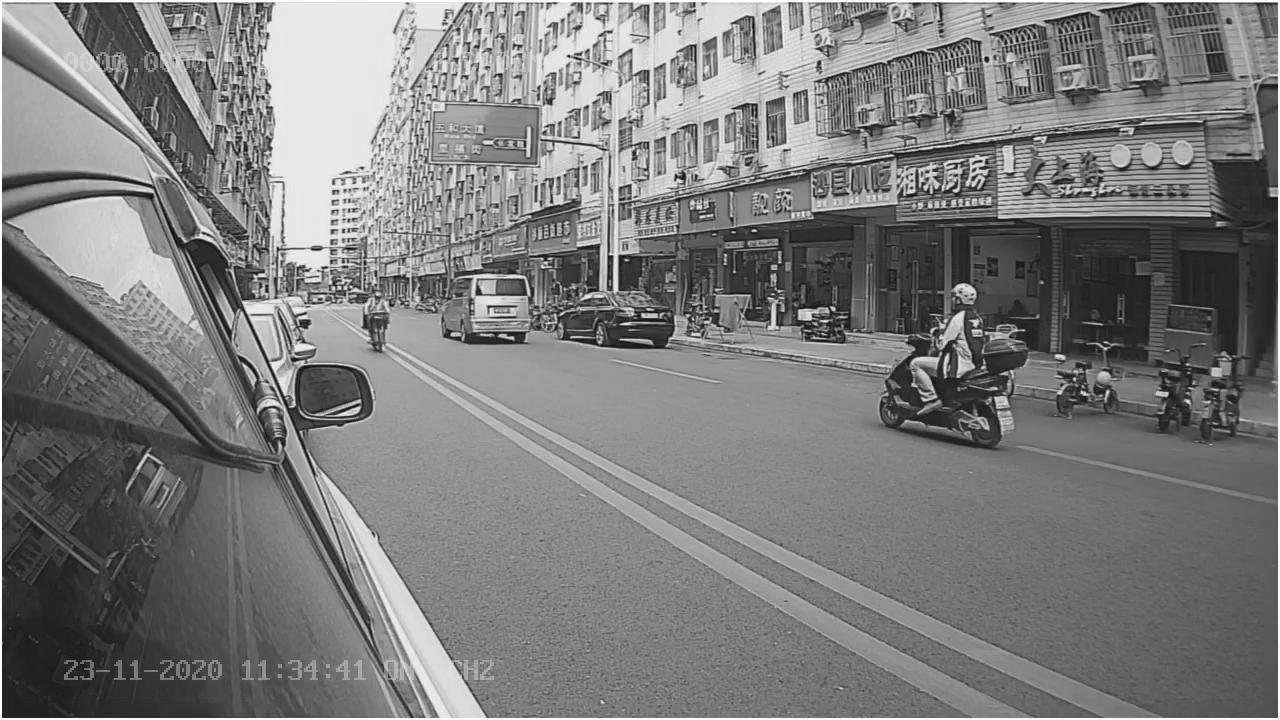person: (920, 270, 989, 353)
